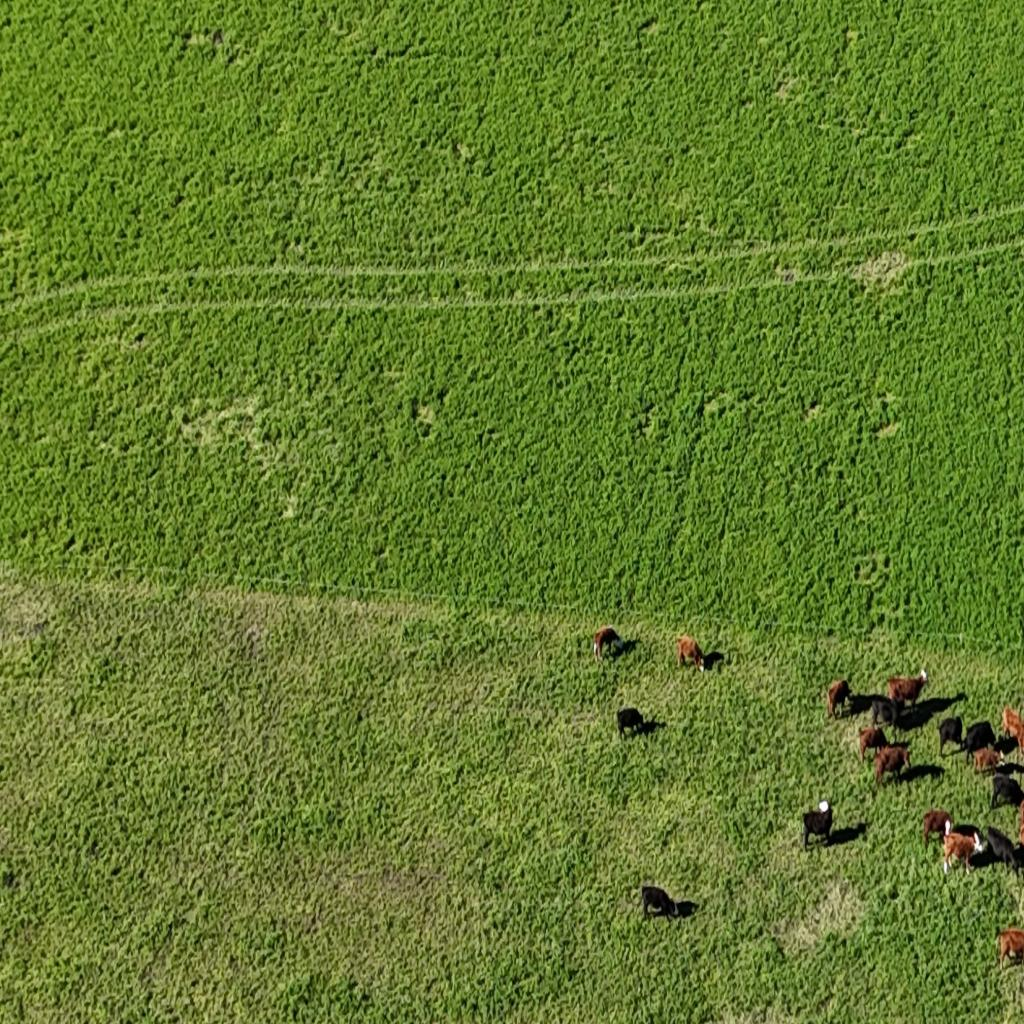cow: (940, 826, 982, 874), (983, 825, 1023, 875), (801, 798, 833, 847), (640, 884, 679, 924), (889, 669, 929, 703), (876, 744, 910, 781), (991, 772, 1024, 810), (870, 696, 903, 732), (964, 720, 995, 758), (996, 929, 1024, 971), (922, 808, 953, 845), (1001, 704, 1024, 753), (678, 636, 706, 674), (592, 627, 622, 662), (860, 726, 888, 763), (826, 679, 851, 719), (938, 715, 963, 754), (616, 707, 644, 740), (976, 746, 1006, 772)
